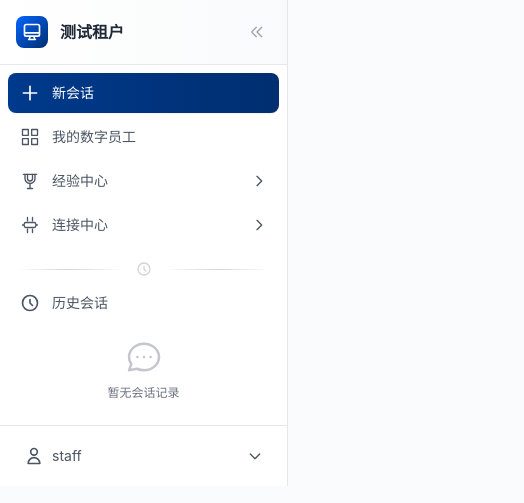
Test case: MenuSidebar - flyout 二级菜单 › 办公软件会话：普通用户不可见
Hover over the button "经验中心" at [80, 180], box [8, 161, 279, 201]
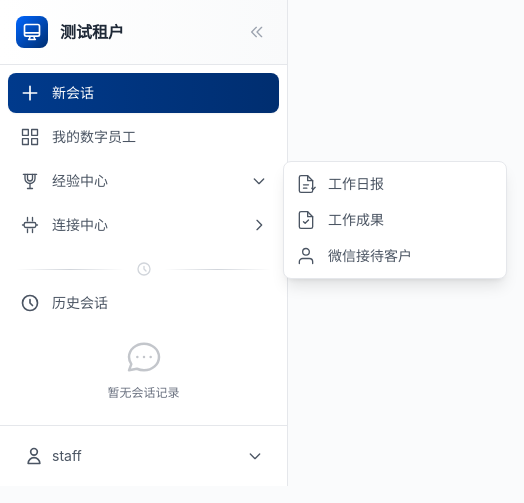
Now the element showing "工作日报 工作成果 微信接待客户" is shown, box [283, 161, 507, 279]
